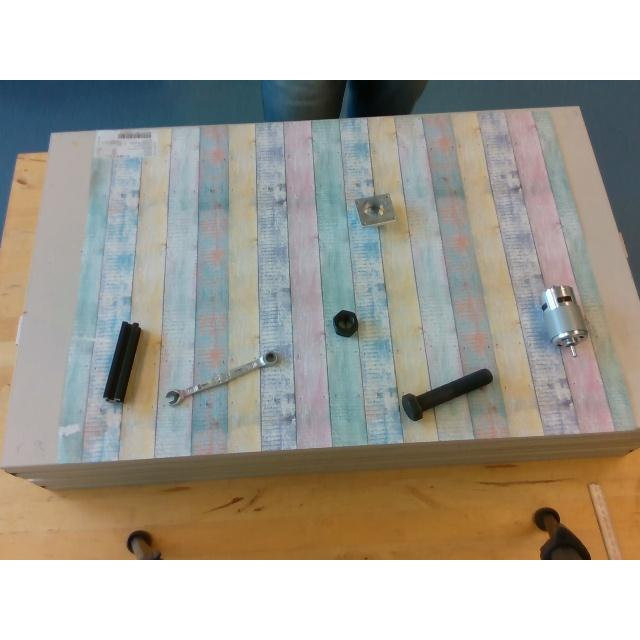F20_20_B: (104, 322, 140, 402)
M20: (333, 310, 357, 334)
M20_100: (401, 368, 491, 419)
Motor2: (542, 284, 588, 346)
Wrench: (166, 351, 278, 403)
